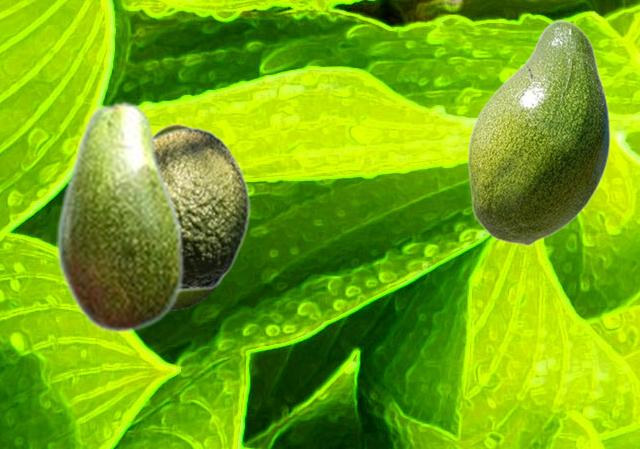avocado: (467, 19, 610, 245), (56, 99, 184, 334), (155, 127, 249, 291), (154, 123, 227, 309)
